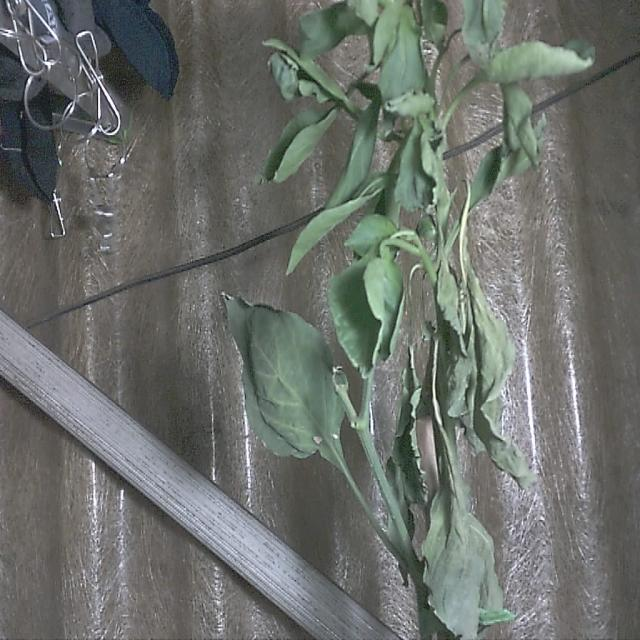Leaf: (222, 291, 348, 468), (426, 449, 496, 640)
